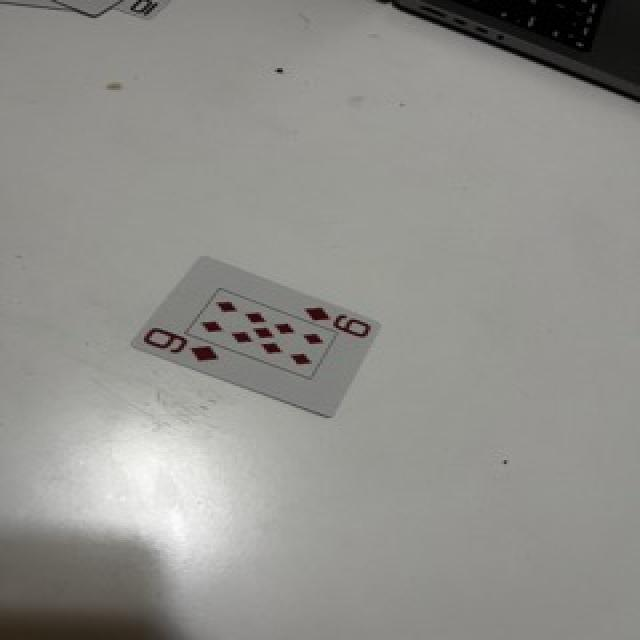9 of diamonds: (133, 256, 380, 416)
